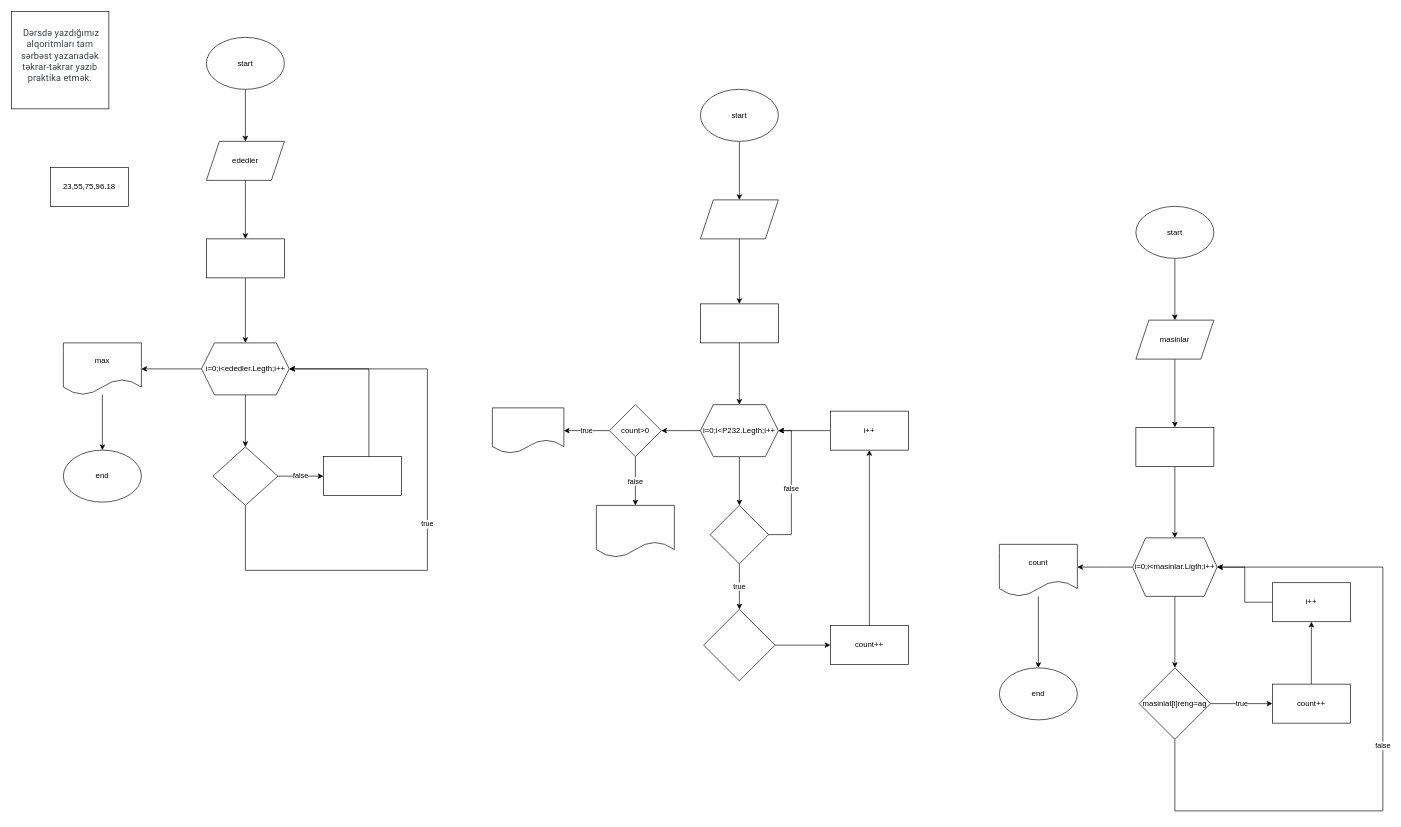
This 1401x827 diagram has some shape labels left out. The box of each missing label's shape, as (x1, y1, x2, y2) in pixels:
count=0: (1135, 427, 1214, 466)
count=0 sum=0: (700, 303, 778, 343)
hamsi 0 bal alib_error: (596, 505, 674, 557)
max=0: (206, 238, 284, 278)
max=ededler[i]: (323, 456, 401, 496)
max>ededler[i]: (212, 446, 278, 505)
p232: (700, 199, 778, 239)
P232[i]point!=0: (709, 505, 769, 564)
sum+P232[i]point: (703, 609, 775, 681)
sum/count: (492, 407, 564, 453)
